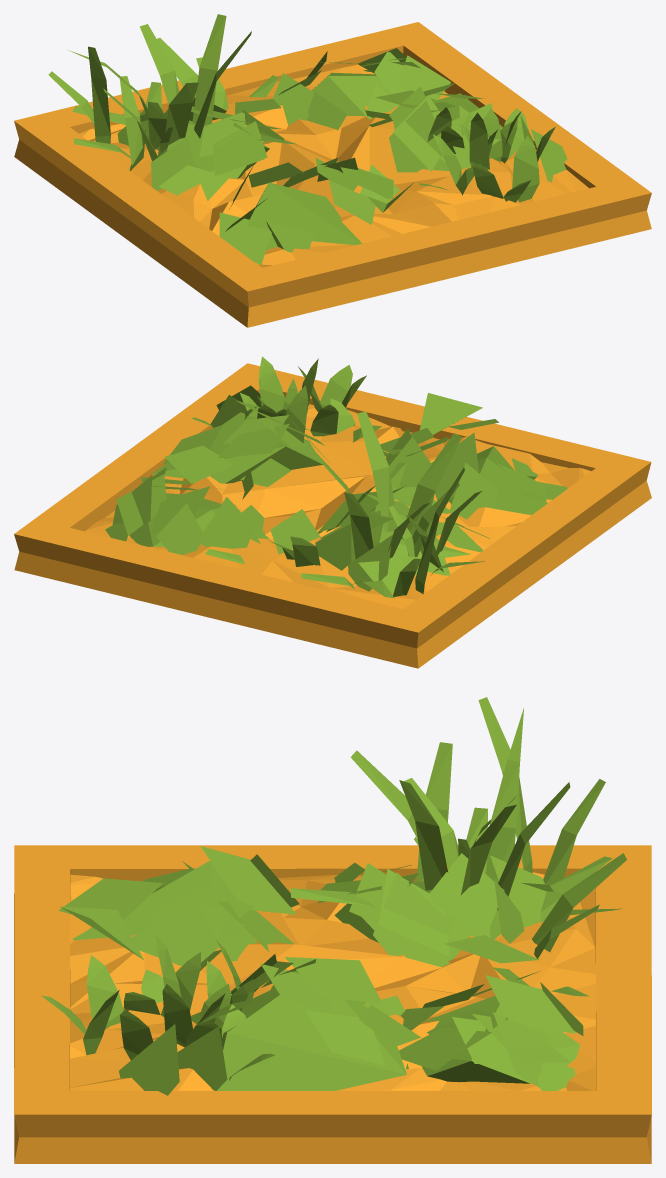
Rendered from SM_Tree_Pot_City_D_1m_Foliage.fbx.
The picture shows the model from 3 angles, top to bottom: view 1: azimuth 30°, elevation 25°; view 2: azimuth 150°, elevation 25°; view 3: azimuth 270°, elevation 25°; orthographic projection. The views are drawn at different scales.
Visible parts, largest first — view 1: SM_Tree_Pot_City_D_1m_Foliage; view 2: SM_Tree_Pot_City_D_1m_Foliage; view 3: SM_Tree_Pot_City_D_1m_Foliage.
Part boxes in pixels (x1=…): SM_Tree_Pot_City_D_1m_Foliage: x1=14, y1=14, x2=651, y2=327; SM_Tree_Pot_City_D_1m_Foliage: x1=14, y1=356, x2=651, y2=668; SM_Tree_Pot_City_D_1m_Foliage: x1=14, y1=697, x2=651, y2=1163.
Bounding box in the file's own units: 1.14 × 0.4543 × 1.13.
